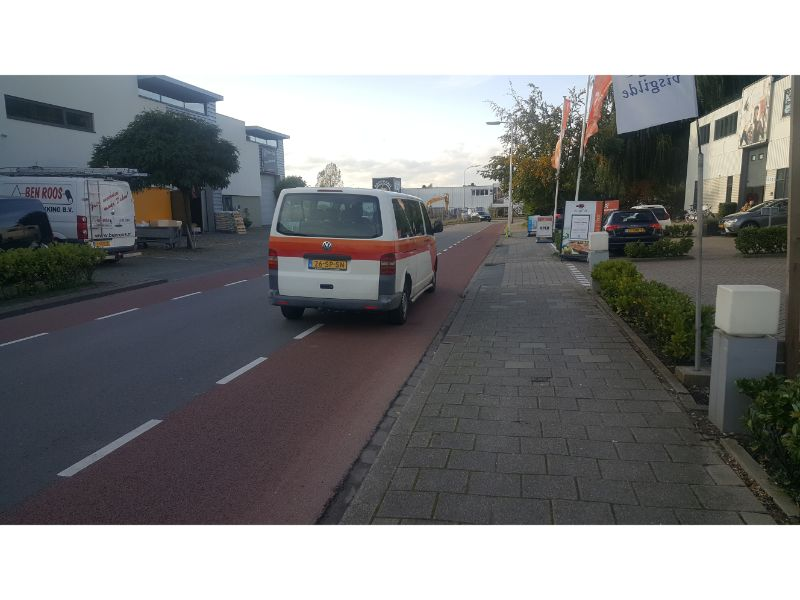kenteken: (308, 258, 347, 271)
